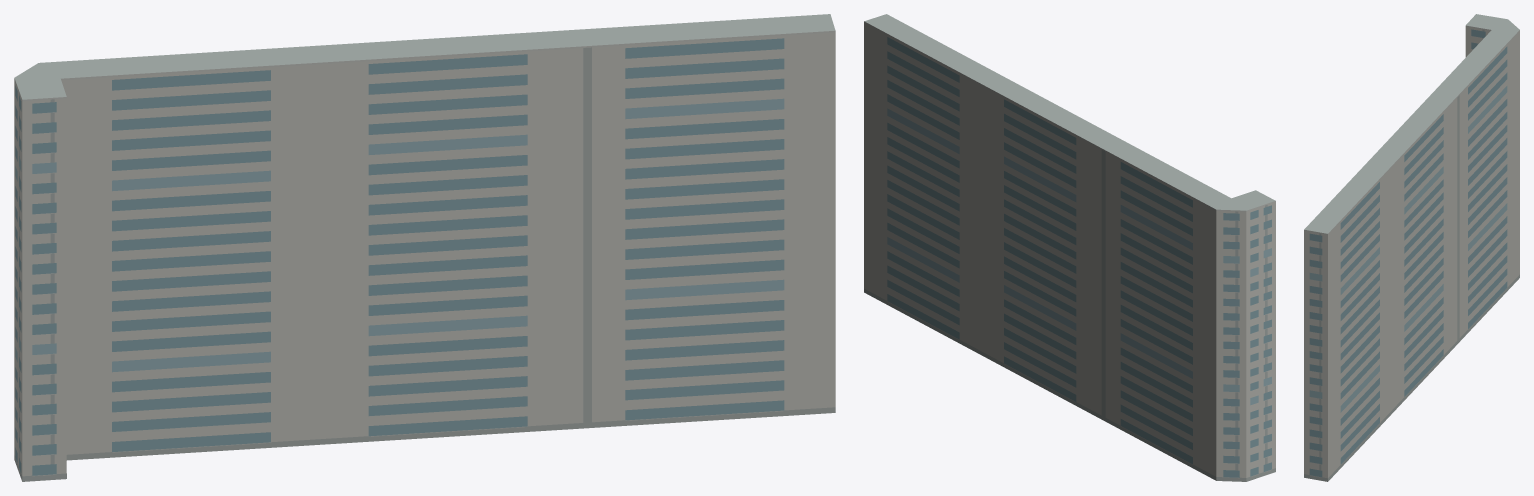
Rendered from survey-upis-32503801.glb.
The picture shows the model from 3 angles, left to right: view 1: azimuth 30°, elevation 25°; view 2: azimuth 150°, elevation 25°; view 3: azimuth 270°, elevation 25°; orthographic projection. The views are drawn at different scales.
Visible parts, largest first — view 1: survey-upis-32503801.tmp; view 2: survey-upis-32503801.tmp; view 3: survey-upis-32503801.tmp.
Part boxes in pixels (<box>): survey-upis-32503801.tmp: <box>14,14,835,481</box>; survey-upis-32503801.tmp: <box>864,14,1275,481</box>; survey-upis-32503801.tmp: <box>1304,14,1519,481</box>.
Size of the model in its own units: 110 by 57.95 by 45.72.
